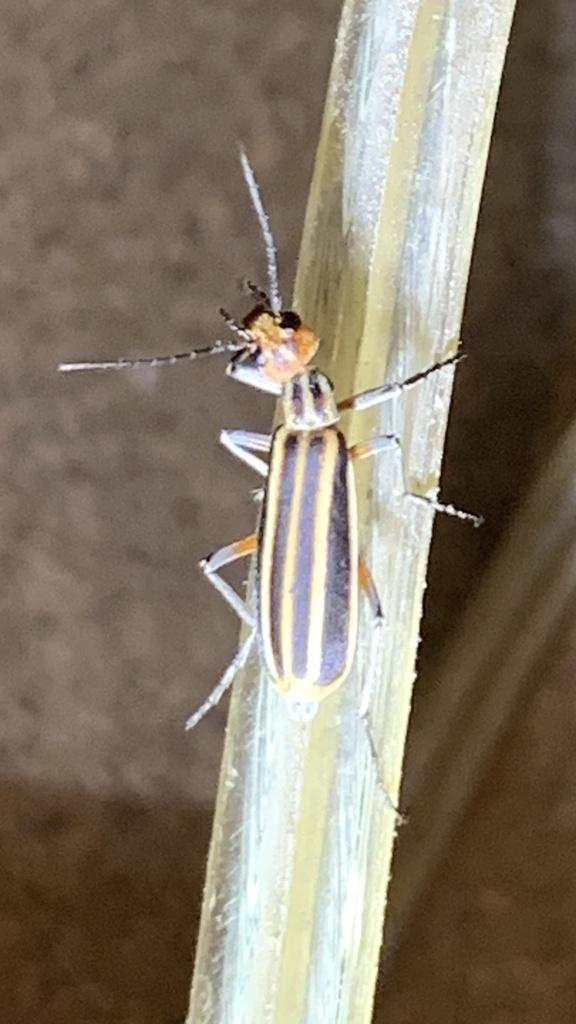blister_beetle: (36, 99, 520, 872)
